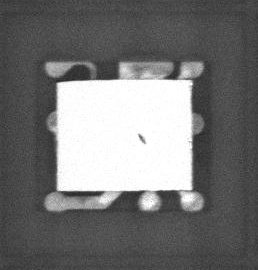DIE_INK: (130, 139, 140, 152)
